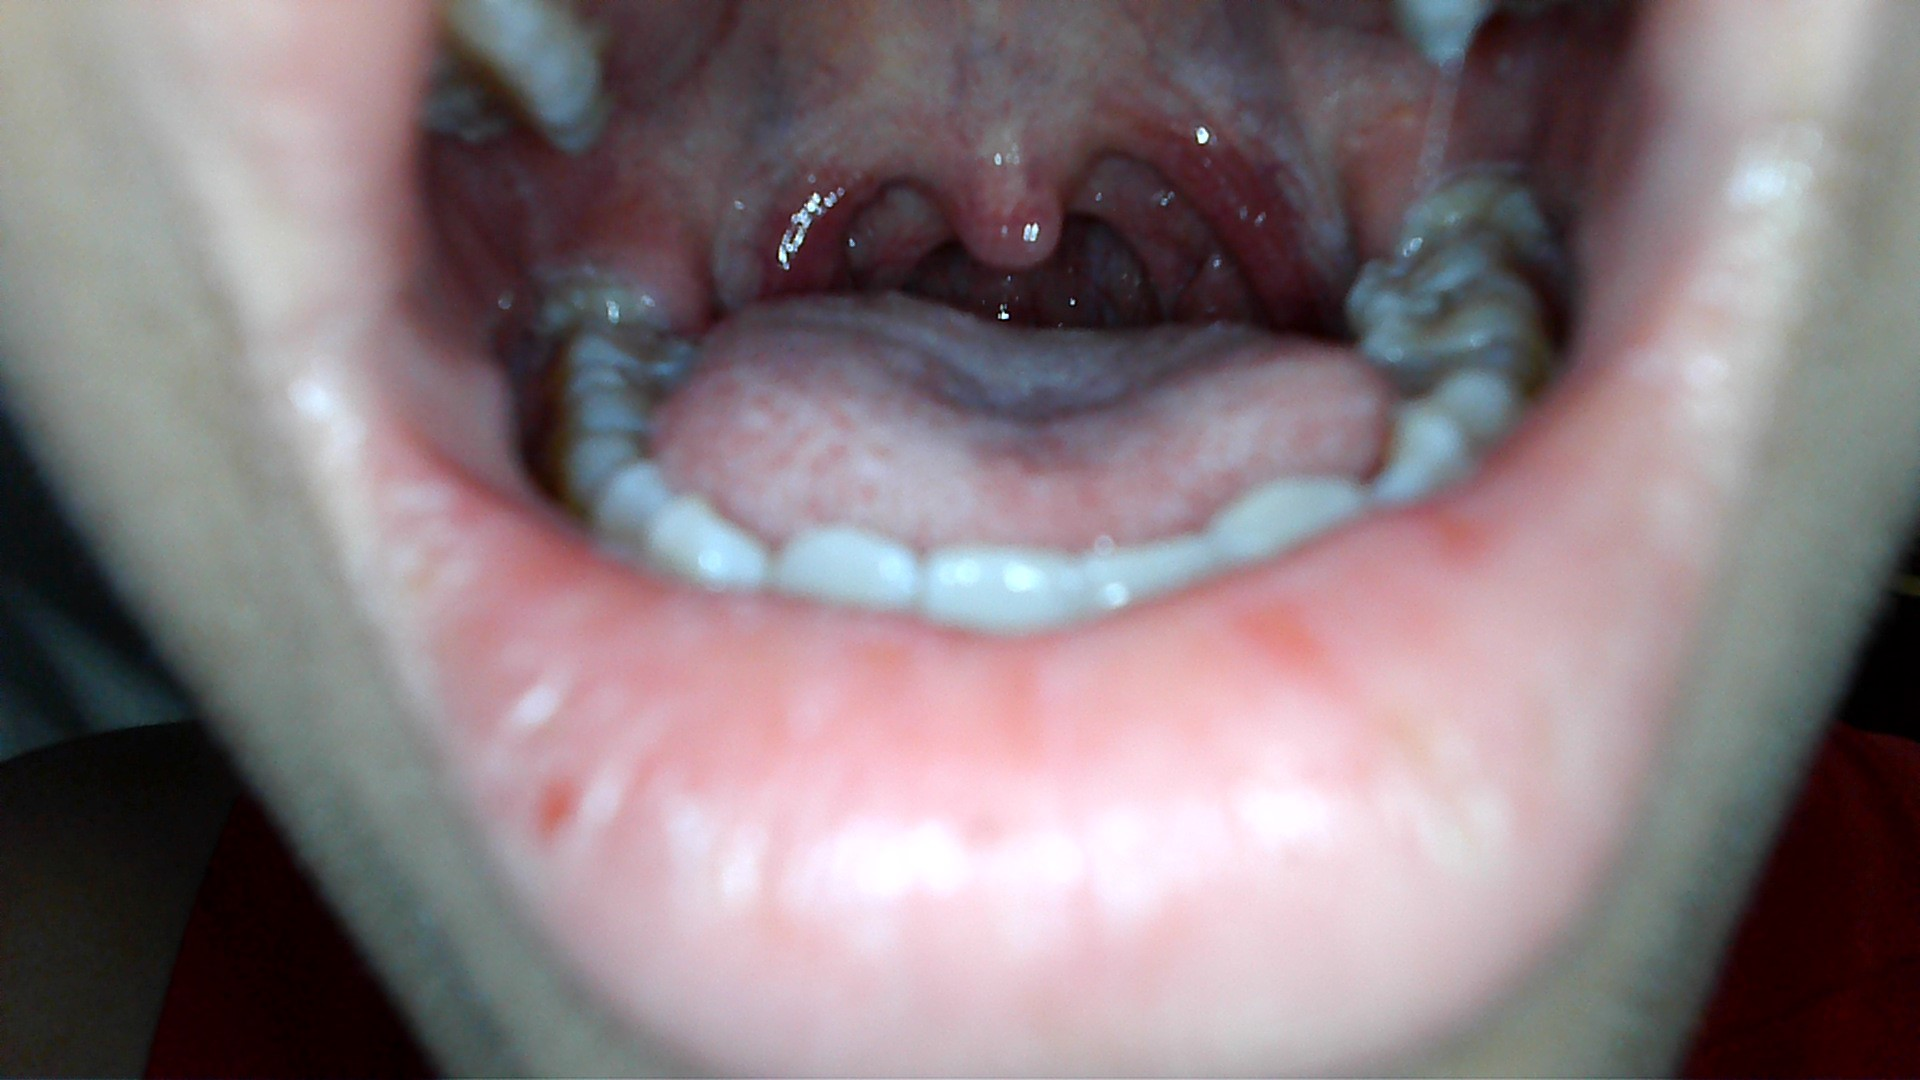throat: (1142, 76, 1302, 305), (727, 96, 870, 295)
